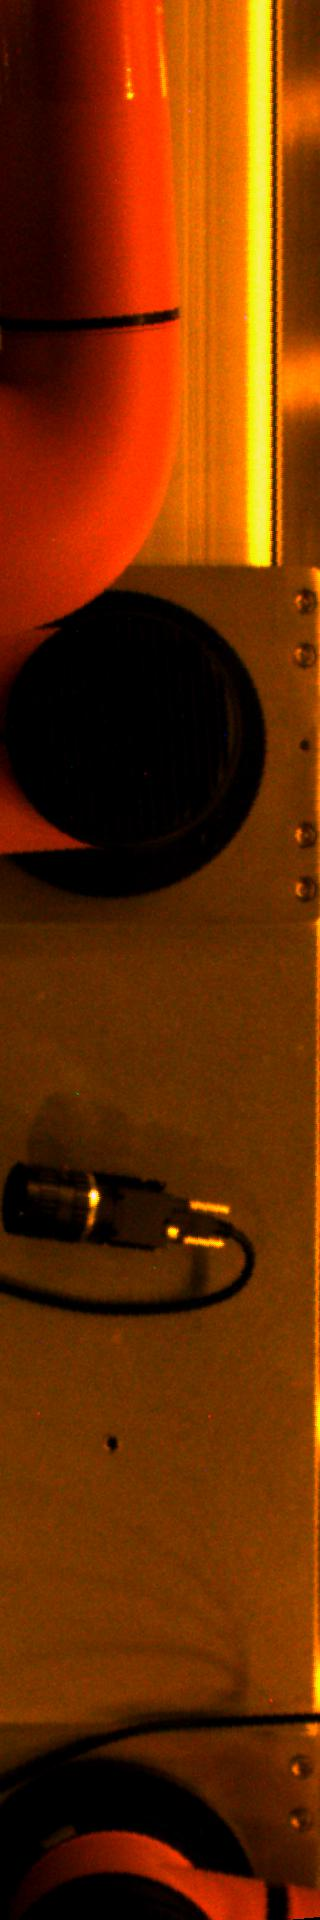keyPoint_2: (97, 1428, 128, 1458)
